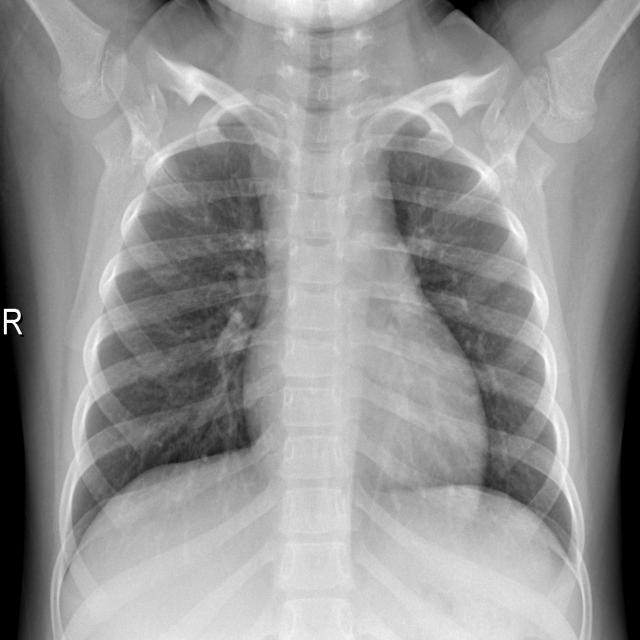no-pneumonia: (384, 113, 575, 552), (71, 141, 269, 544)
